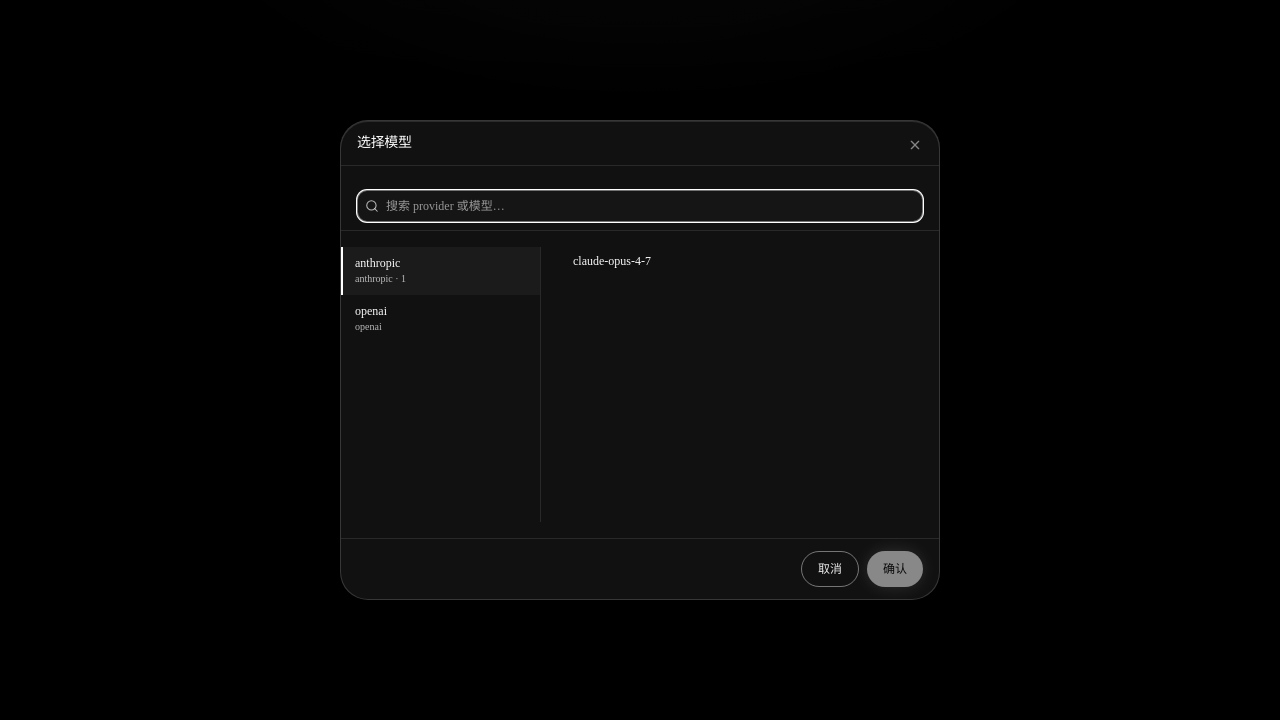
<ModelPickerDialog> › does not get stuck on loading after provider switch race
The width and height of the screenshot is (1280, 720).
Expected: the button with test id "model-picker-model-claude-opus-4-7" is shown, [541,247,939,275]
What coordinates should you click on to do the following:
click the button with test id "model-picker-provider-openai"
I would click on:
 (440, 319)
Its box is [341,295,540,343].
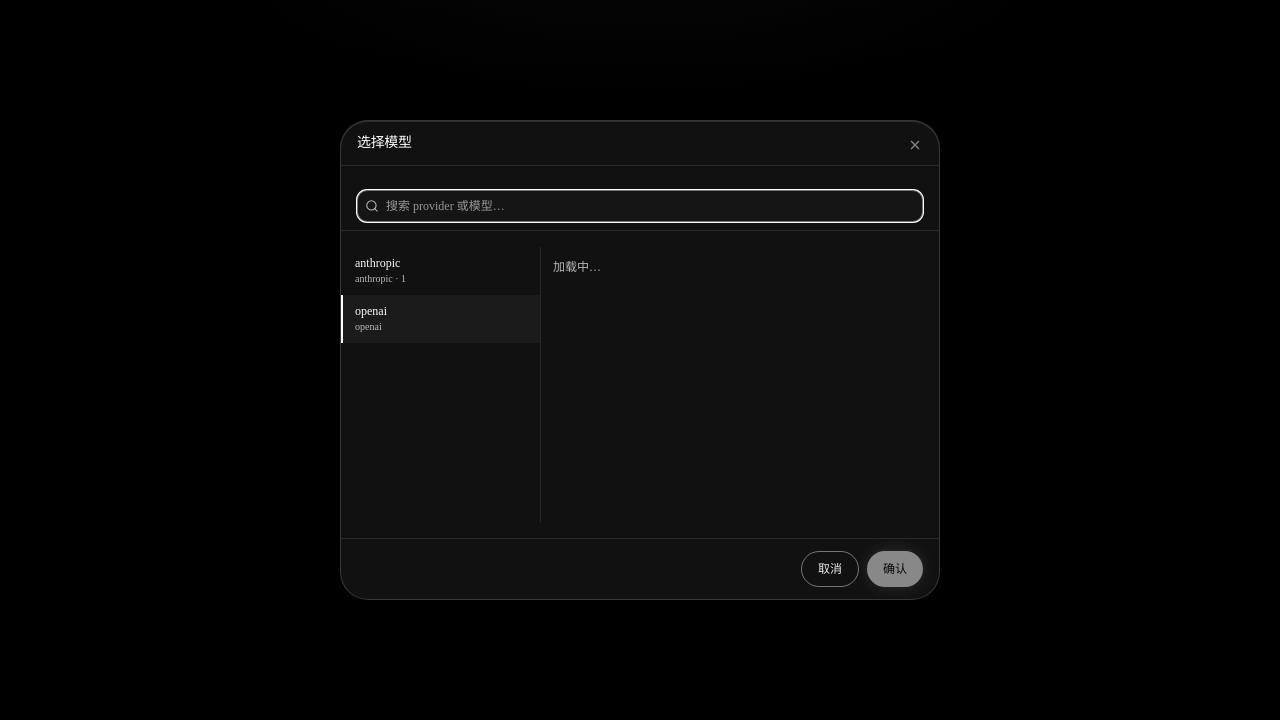
What coordinates should you click on to do the following:
click the button with test id "model-picker-provider-anthropic"
I would click on:
 (440, 271)
Its box is [341,247,540,295].
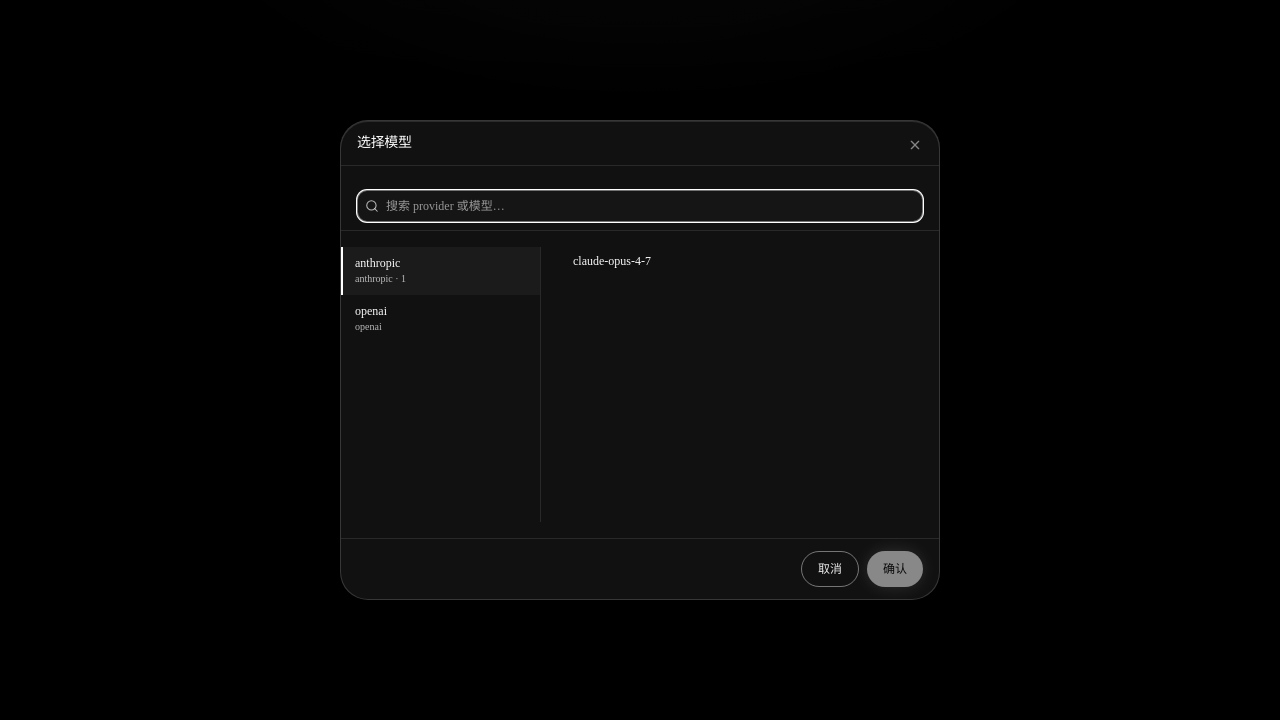
What coordinates should you click on to do the following:
click the button with test id "model-picker-provider-openai"
I would click on:
 (440, 319)
Its box is [341,295,540,343].
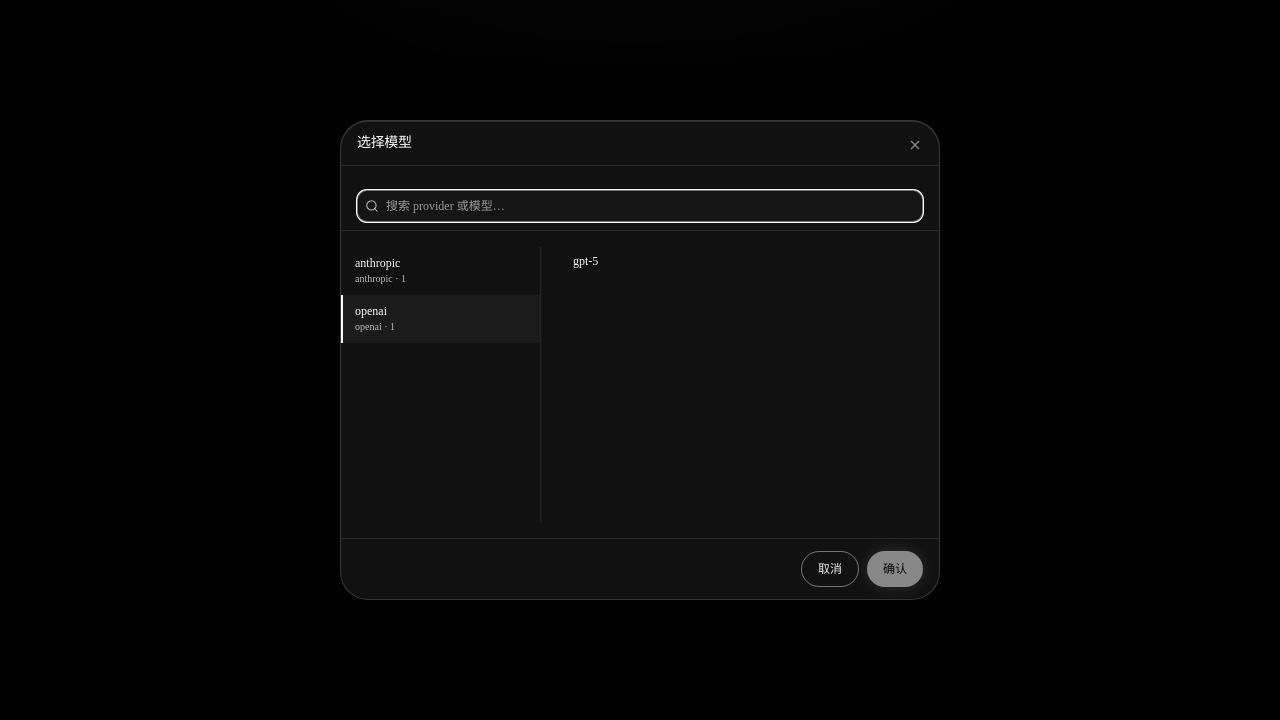
Now the button with test id "model-picker-model-gpt-5" is shown, box [541,247,939,275]
